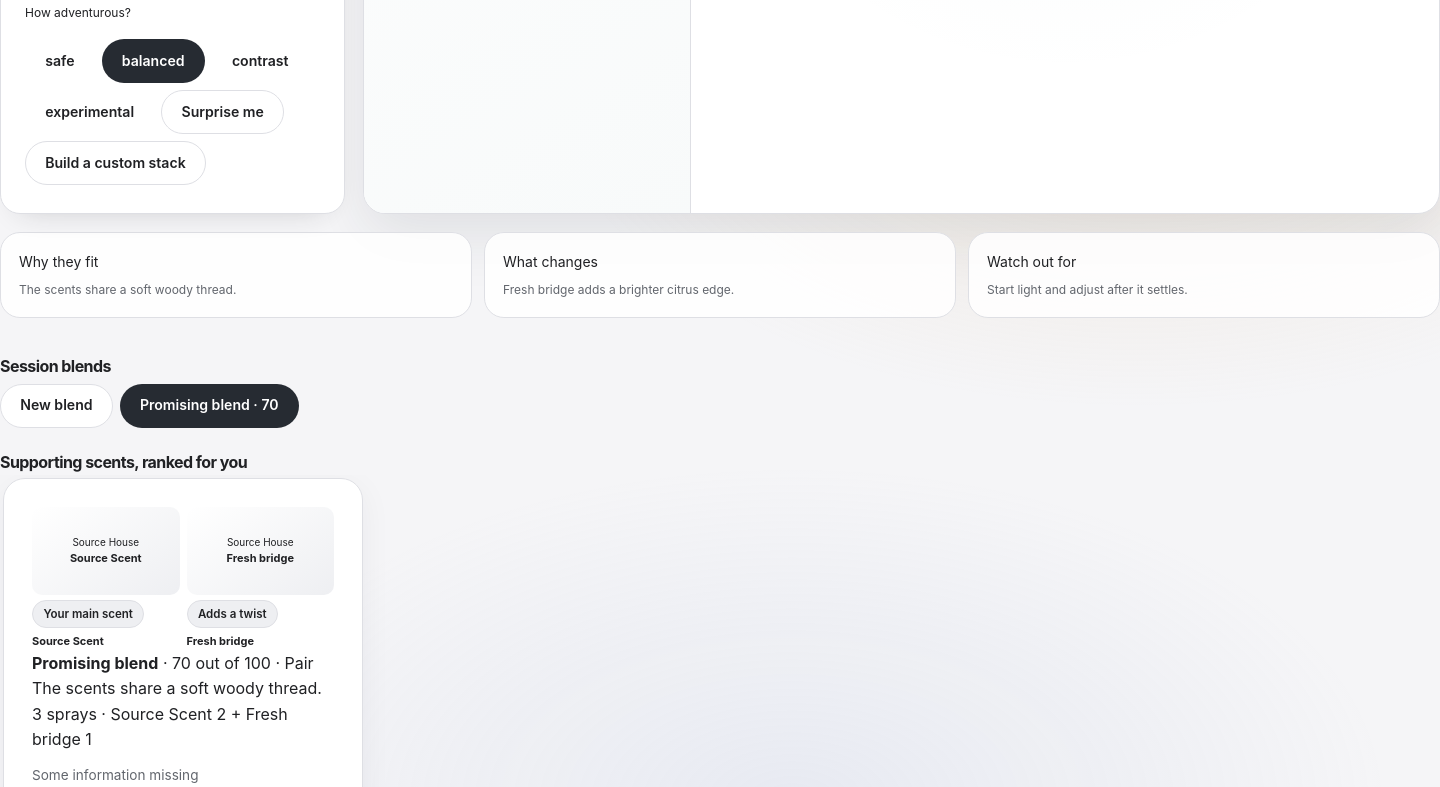
Scenario: LayeringLab intelligence › restores an unsaved session blend
(page scrolled)
Click the button "New blend".
click(56, 406)  # box [0,384,113,428]
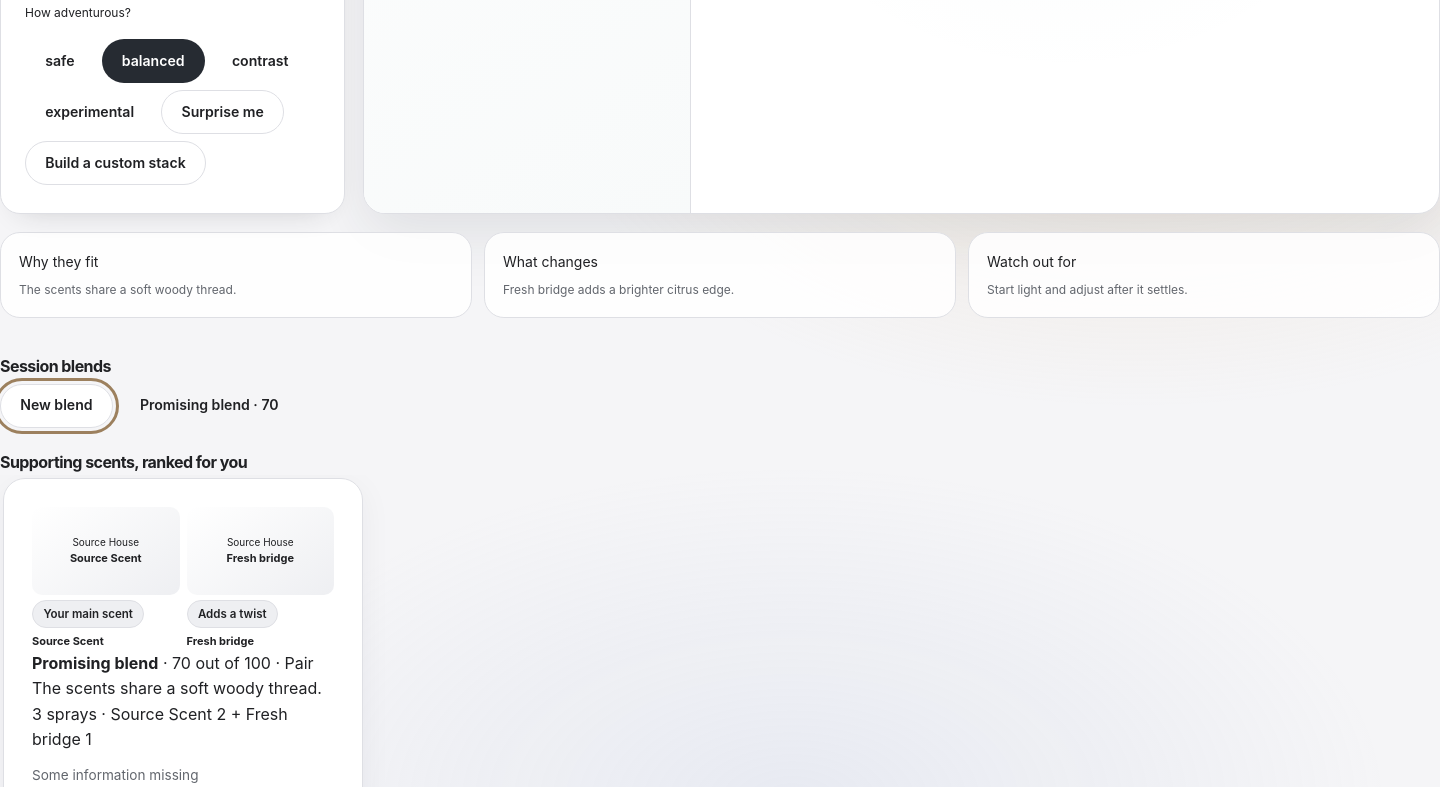
Click the button "Promising blend · 70".
click(209, 406)  # box [120,384,299,428]
(page scrolled)
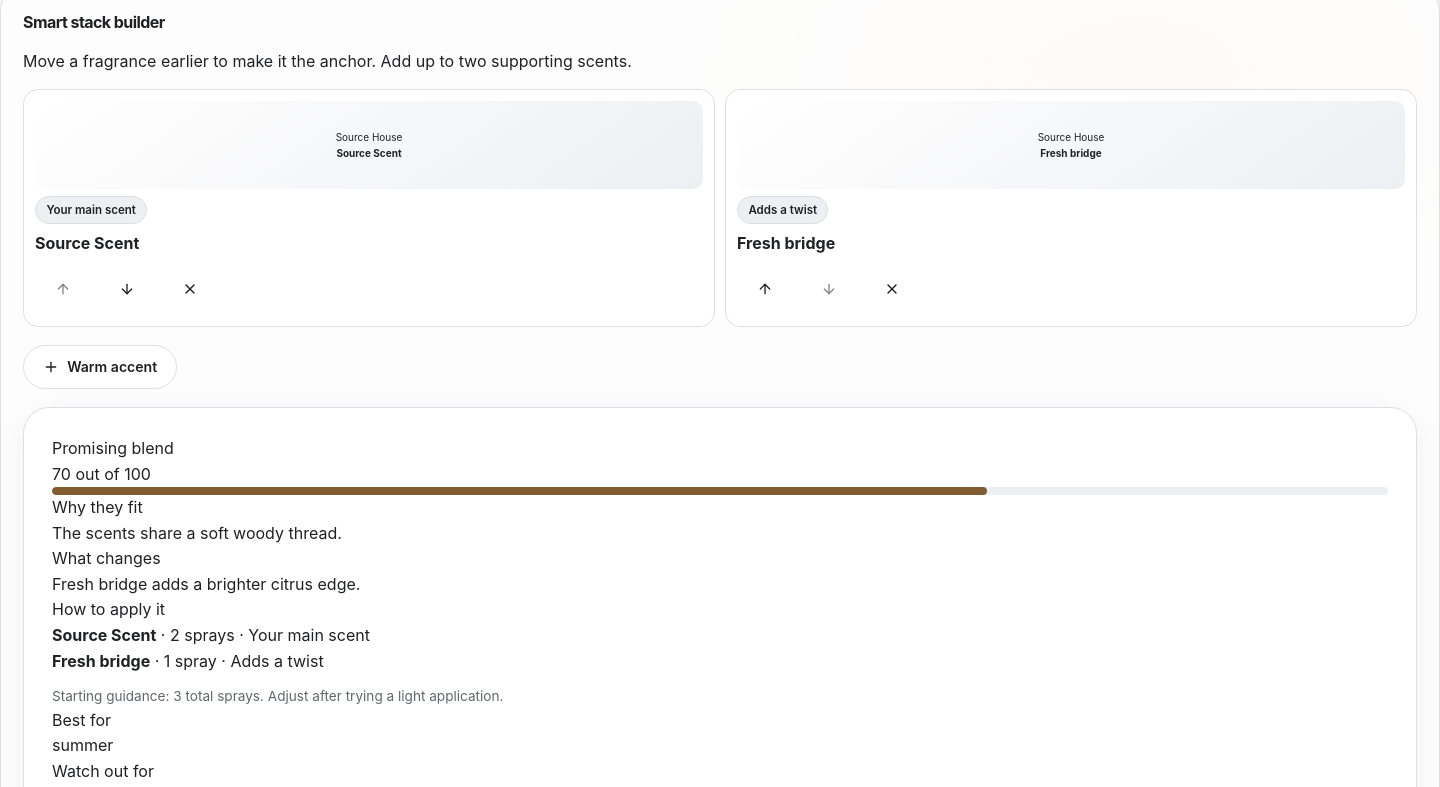
Result: the number of elements with test id "stack-item" is 2 at [23,89,715,327]; [725,89,1417,327]
Result: the element "stack builder" shows "Fresh bridge" at [1040,147,1102,159]
